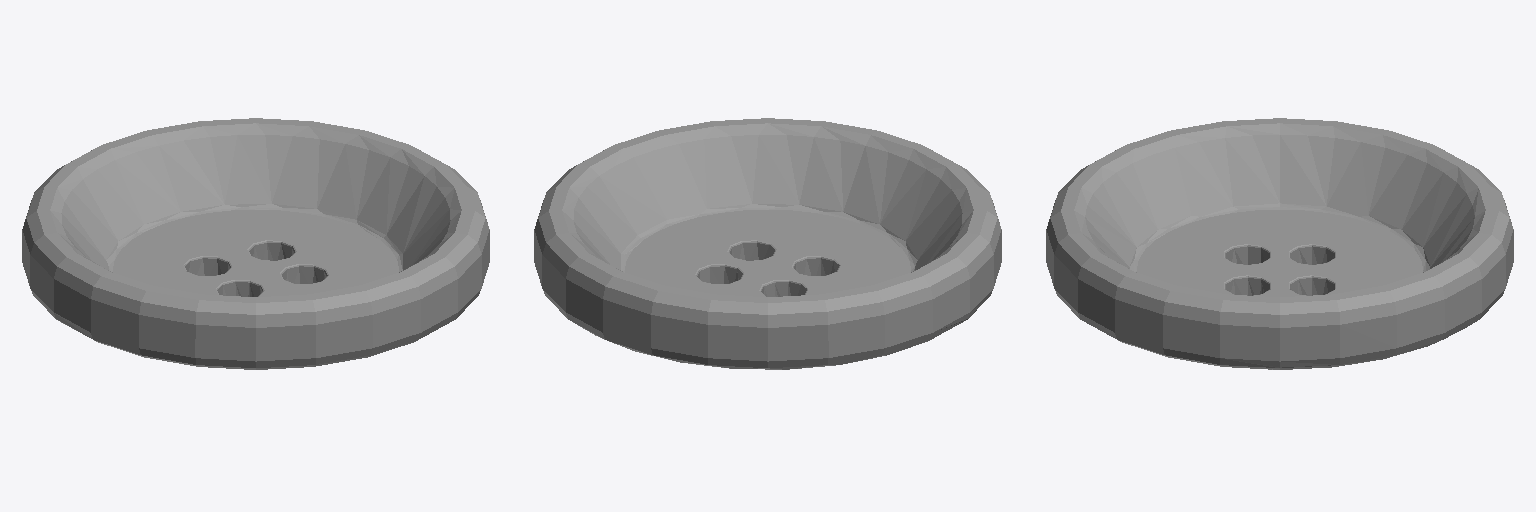
File: button.obj
3 views of the same model, side by side, from view 1: azimuth 30°, elevation 25°; view 2: azimuth 150°, elevation 25°; view 3: azimuth 270°, elevation 25° (orthographic).
Visible parts, largest first — view 1: 16; view 2: 16; view 3: 16.
Boxes of the visible parts, box(x1,y1,x2,y2) form: 16: box(22, 118, 489, 369); 16: box(534, 118, 1001, 369); 16: box(1046, 118, 1513, 369).
Size of the model in its own units: 2.9 by 0.6261 by 2.9.